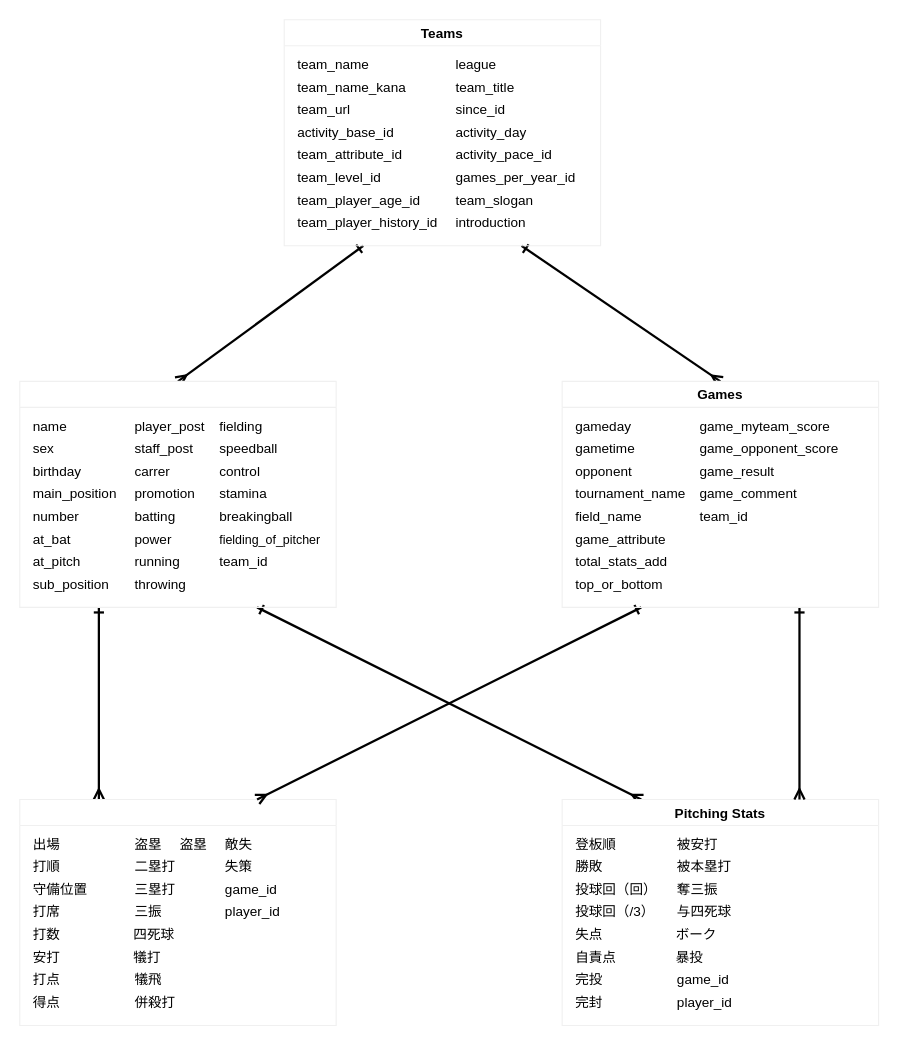
The diagram is 898 pixels wide and 1045 high, and some of its shapes have lost their labels. Here are the shapes that lost their labels. From the top down, the box of each, then its label:
(19, 380, 336, 607): Players
(19, 798, 336, 1025): Batting Stats
